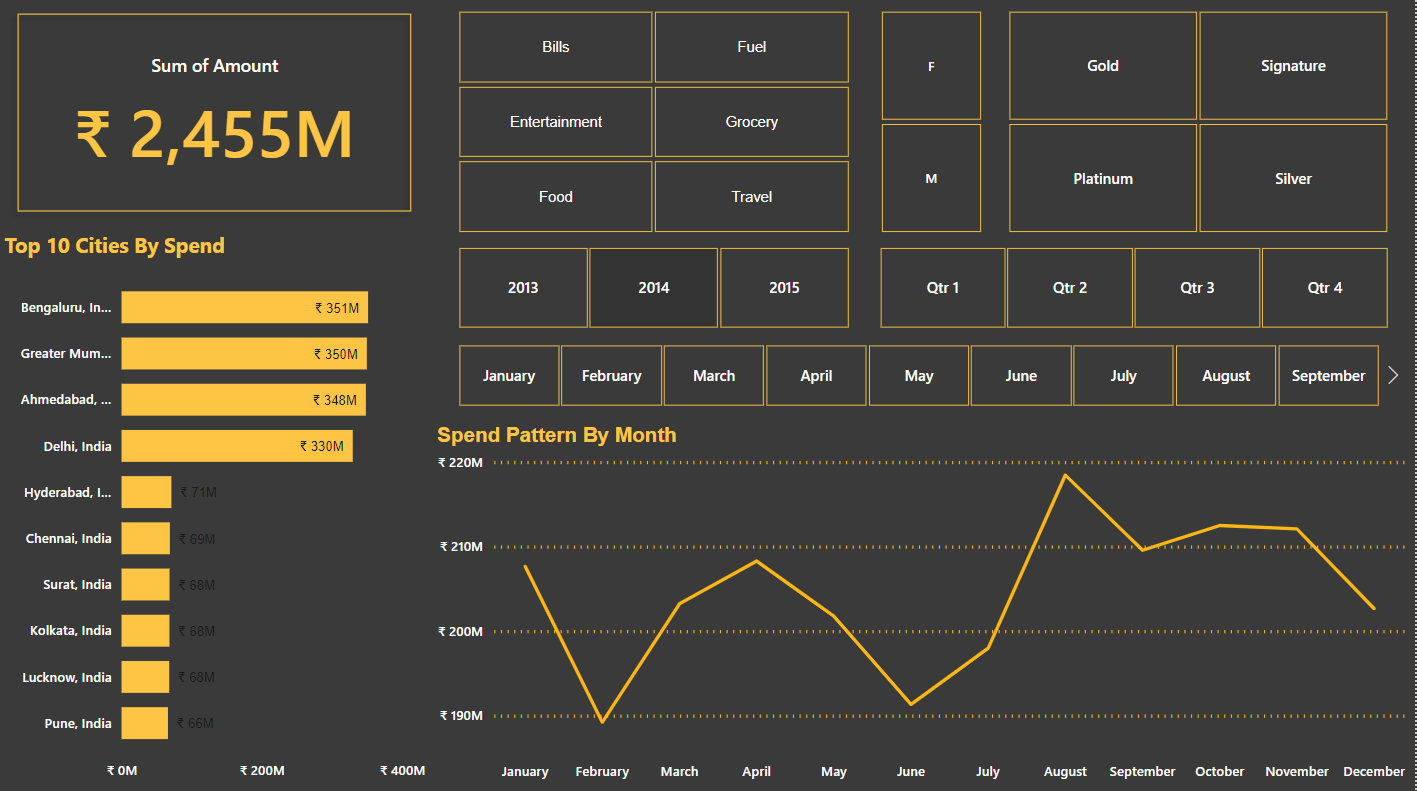

What the dashboard file says about the page in this screenshot:
{"tool":"powerbi","page":{"name":"Dashboard","canvas":[1280,720],"ordinal":0},"visuals":[{"type":"cardVisual","fields":{"Data":["Sum(Credit card transactions - India - Simple.Amount)"]},"box":[0,0,390.7,213.9],"z":0},{"type":"barChart","title":"Top 10 Cities By Spend","fields":{"Category":["Credit card transactions - India - Simple.City"],"Y":["Sum(Credit card transactions - India - Simple.Amount)"]},"box":[0,213.9,390.7,505.9],"z":1000},{"type":"slicer","fields":{"Values":["Credit card transactions - India - Simple.Exp Type"]},"box":[390,7.9,402.4,213.6],"z":2000},{"type":"slicer","fields":{"Values":["Credit card transactions - India - Simple.Gender"]},"box":[772,7.9,140.2,213.6],"z":3000},{"type":"slicer","fields":{"Values":["Credit card transactions - India - Simple.Card Type"]},"box":[887.3,7.9,392.2,213.6],"z":4000},{"type":"slicer","fields":{"Values":["Credit card transactions - India - Simple.Date.Variation.Date Hierarchy.Year"]},"box":[390,221.5,402.4,85.9],"z":5000},{"type":"slicer","fields":{"Values":["Credit card transactions - India - Simple.Date.Variation.Date Hierarchy.Quarter"]},"box":[770.9,221.5,508.6,85.9],"z":6000},{"type":"lineClusteredColumnComboChart","title":"Spend Pattern By Month","fields":{"Y2":["Sum(Credit card transactions - India - Simple.Amount)"],"Category":["Credit card transactions - India - Simple.Date.Variation.Date Hierarchy.Month"]},"box":[391.1,387.7,888.4,332.3],"z":7000},{"type":"slicer","fields":{"Values":["Credit card transactions - India - Simple.Date.Variation.Date Hierarchy.Month"]},"box":[390,309.7,881.6,68.9],"z":8000}]}

Visuals, with their boxes in screenshot pixels (x1, y1, x2, y2), scaled from the page's 1280x720 canvas onto the 1417x791 screenshot:
cardVisual - Sum(Credit card transactions - India - Simple.Amount): Rect(0, 0, 433, 235)
"Top 10 Cities By Spend" barChart: Rect(0, 235, 433, 790)
slicer - Credit card transactions - India - Simple.Exp Type: Rect(432, 9, 877, 243)
slicer - Credit card transactions - India - Simple.Gender: Rect(855, 9, 1010, 243)
slicer - Credit card transactions - India - Simple.Card Type: Rect(982, 9, 1416, 243)
slicer - Credit card transactions - India - Simple.Date.Variation.Date Hierarchy.Year: Rect(432, 243, 877, 338)
slicer - Credit card transactions - India - Simple.Date.Variation.Date Hierarchy.Quarter: Rect(853, 243, 1416, 338)
"Spend Pattern By Month" lineClusteredColumnComboChart: Rect(433, 426, 1416, 790)
slicer - Credit card transactions - India - Simple.Date.Variation.Date Hierarchy.Month: Rect(432, 340, 1408, 416)
